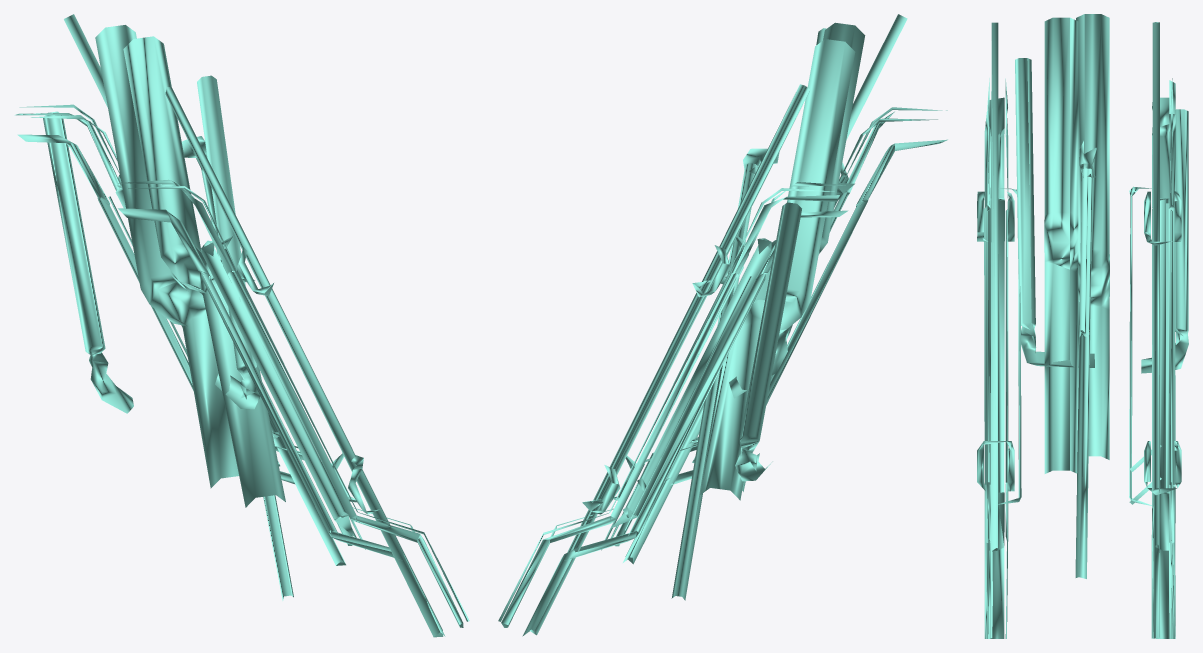
Rendered from backdrop_lpad_wallbase_a_lod3.glb.
3 views of the same model, side by side, from view 1: azimuth 30°, elevation 25°; view 2: azimuth 150°, elevation 25°; view 3: azimuth 270°, elevation 25° (orthographic). The views are drawn at different scales.
Size of the model in its own units: 189 by 331 by 123.
